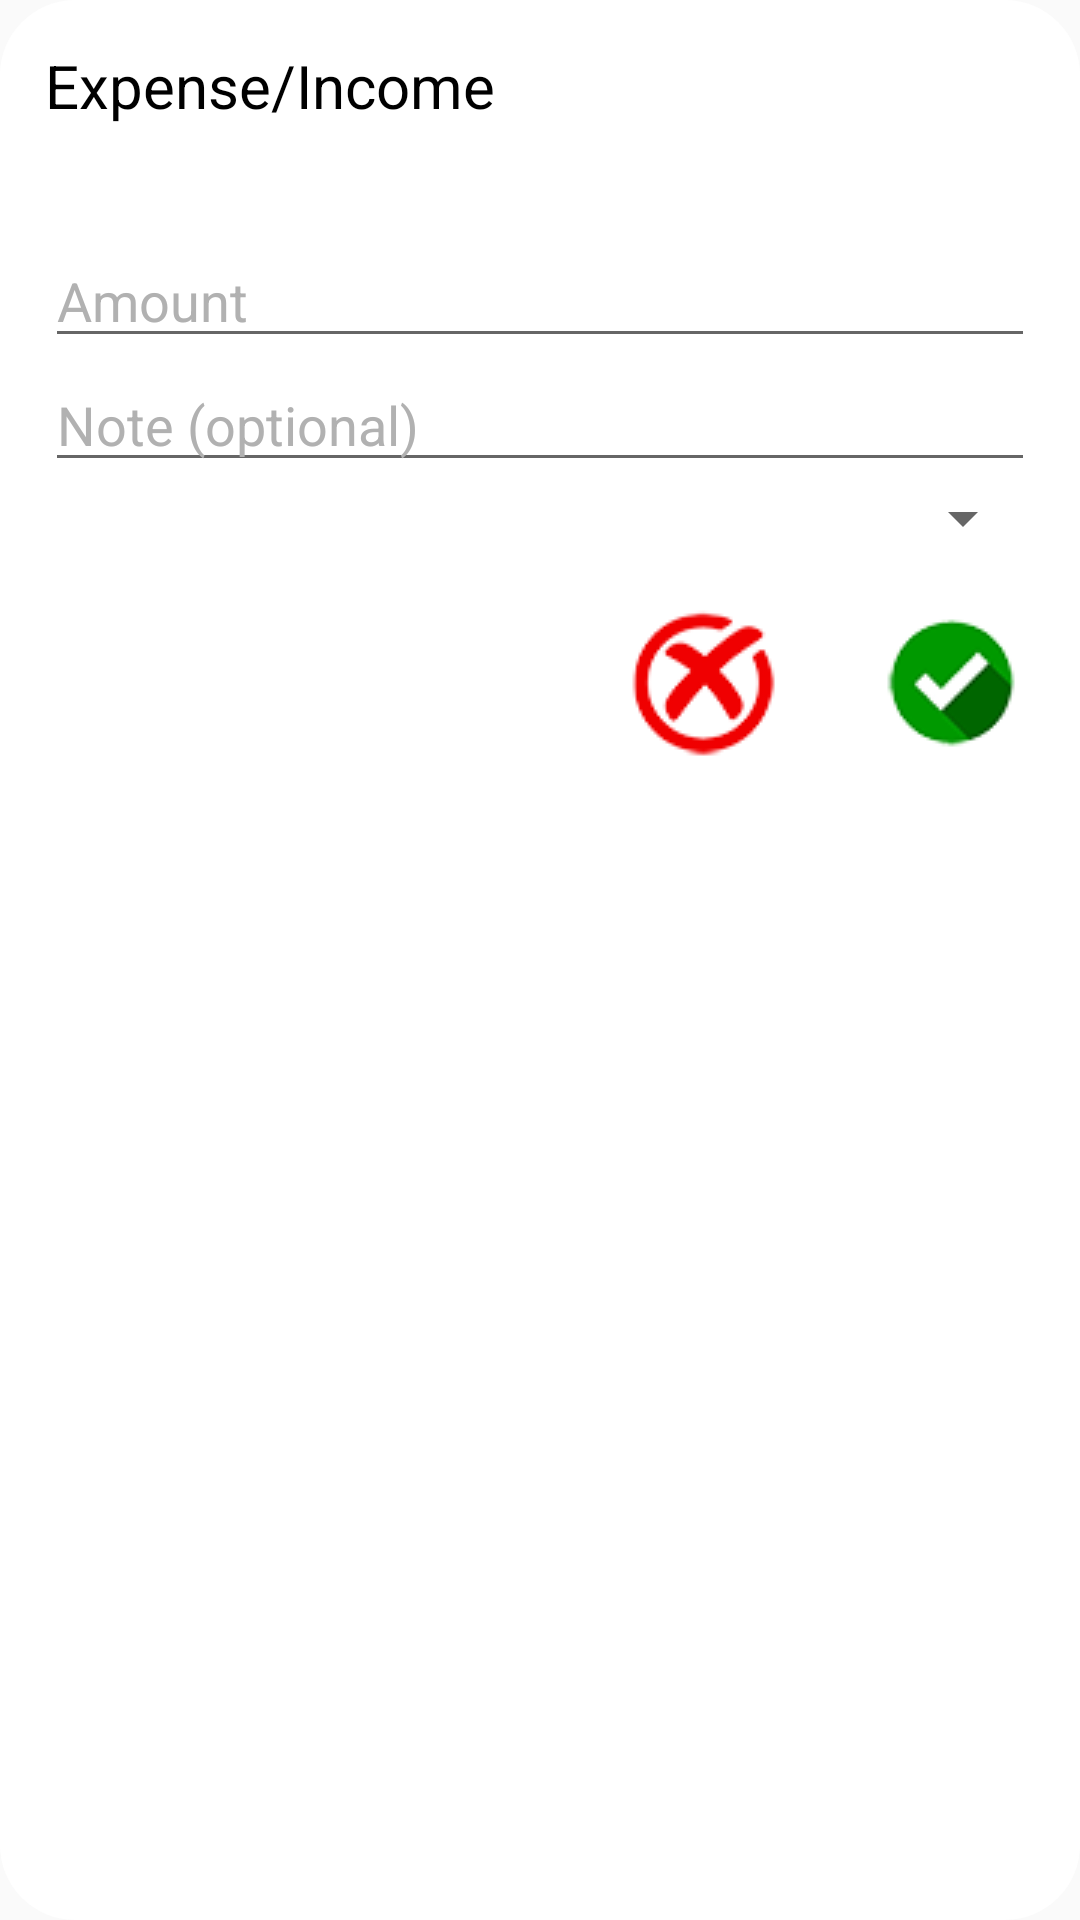

Where icons sit on this 1080x1920 app screen, as region(x1, y1, x2, y2):
cross: region(632, 612, 775, 756)
tick: region(887, 619, 1015, 747)
